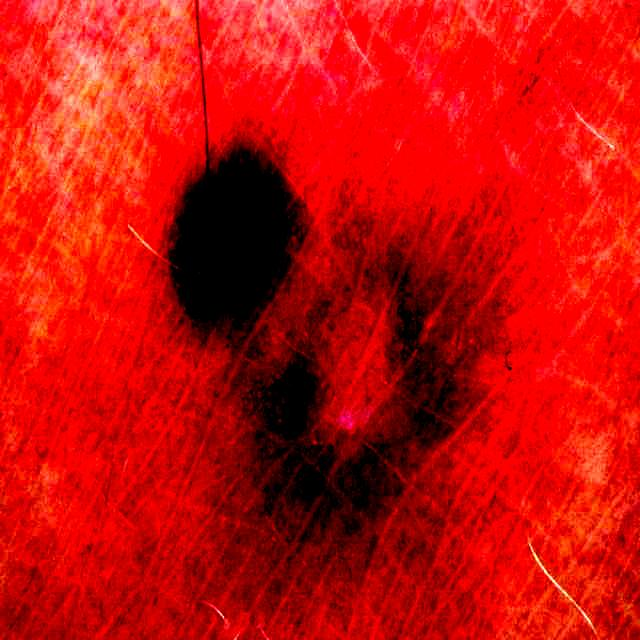DF: (177, 141, 576, 639)
